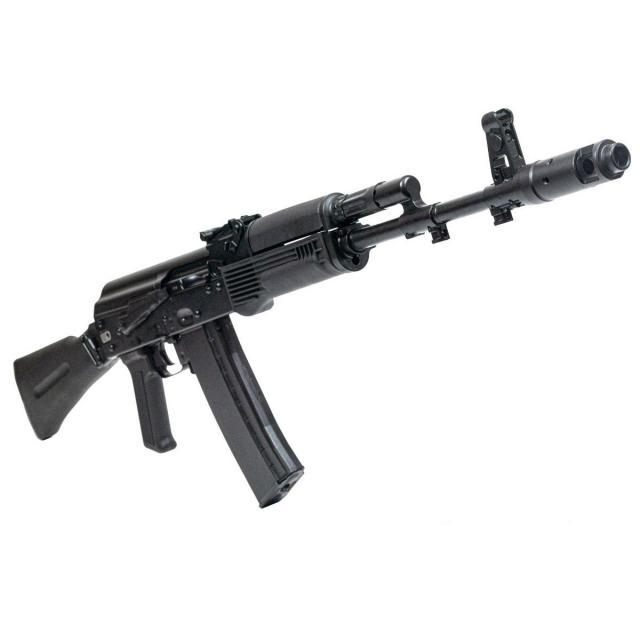weapon: (10, 107, 632, 510)
